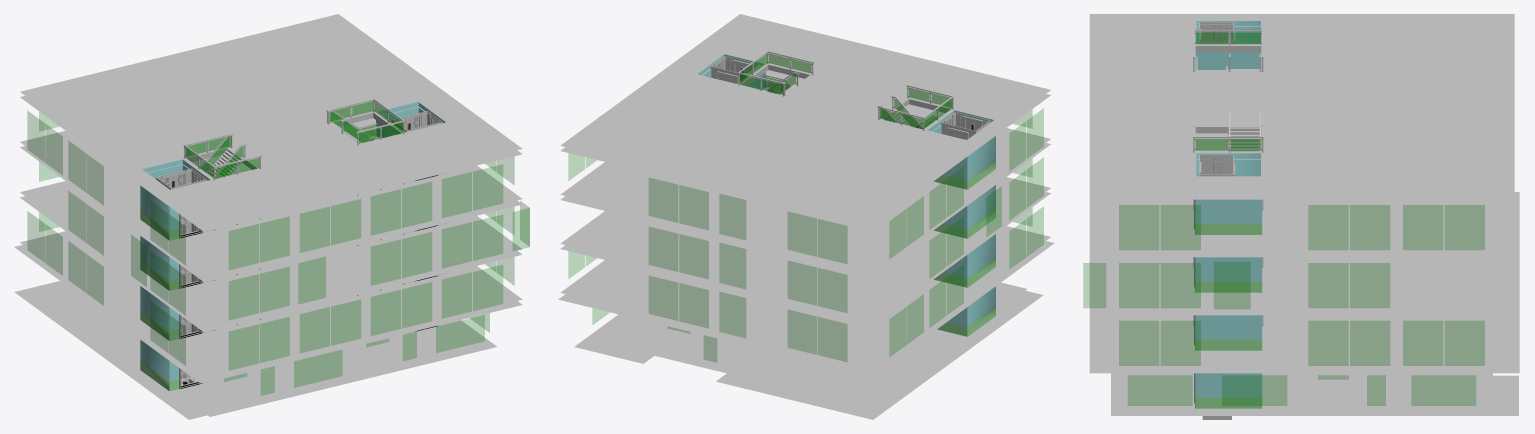
The model's file is SM_Building11_V2_Interior1.fbx.
3 views of the same model, side by side, from view 1: azimuth 30°, elevation 25°; view 2: azimuth 150°, elevation 25°; view 3: azimuth 270°, elevation 25° (orthographic). The views are drawn at different scales.
Parts seen in each view (by area): view 1: SM_Building11_V2_Interior1; view 2: SM_Building11_V2_Interior1; view 3: SM_Building11_V2_Interior1.
Part boxes in pixels (left/top/right/bottom): SM_Building11_V2_Interior1: left=14, top=14, right=529, bottom=419; SM_Building11_V2_Interior1: left=558, top=14, right=1054, bottom=419; SM_Building11_V2_Interior1: left=1083, top=14, right=1519, bottom=419.
Size of the model in its own units: 2775 by 1833 by 2773.
